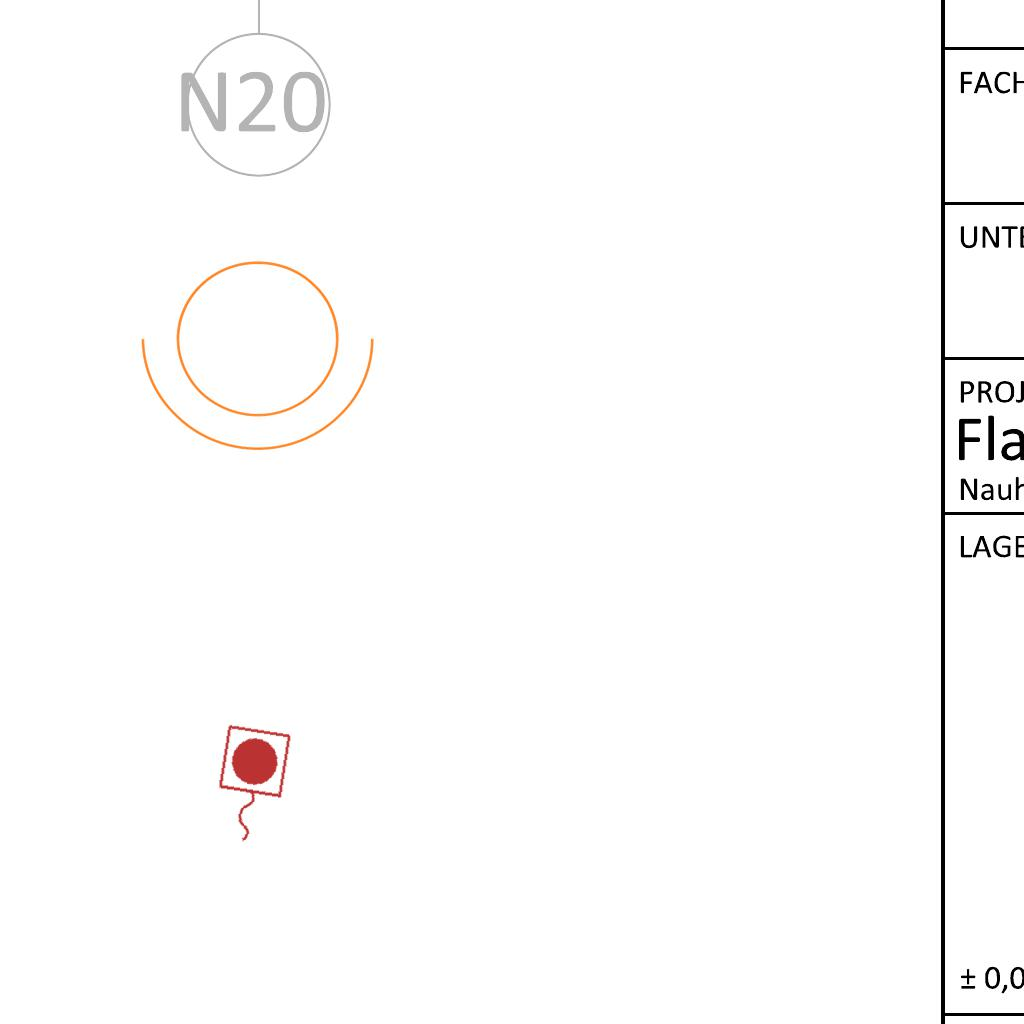Scheinwerfer_fuer_Alarmbeleuchtung: (132, 236, 396, 461)
Zugtaster: (204, 720, 296, 852)
